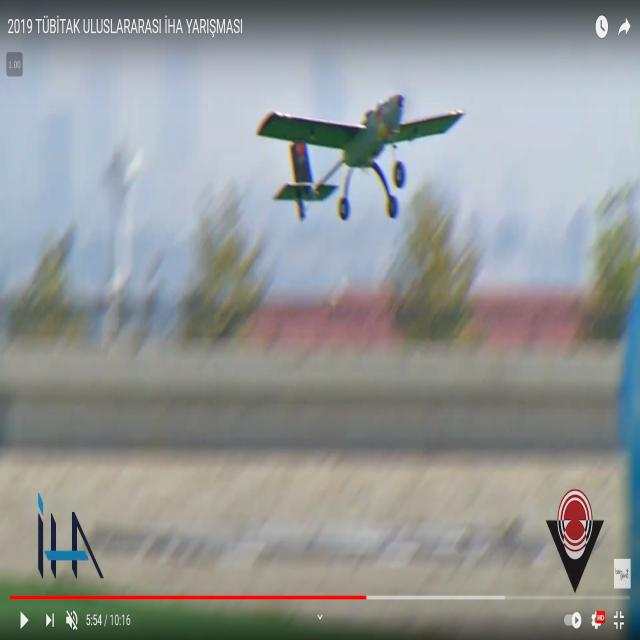iha: (253, 94, 465, 223)
